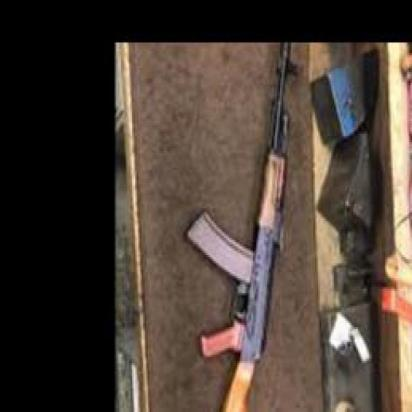Gun: (184, 42, 303, 412)
